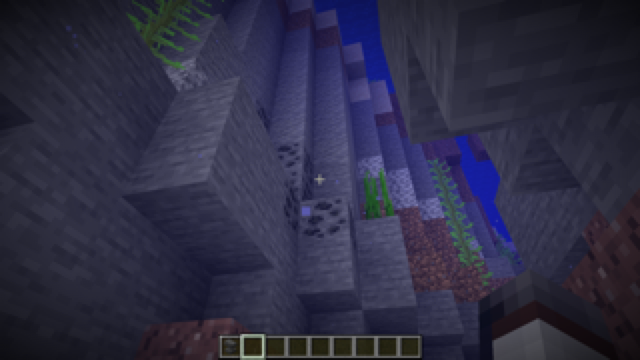coal: (254, 100, 356, 239)
